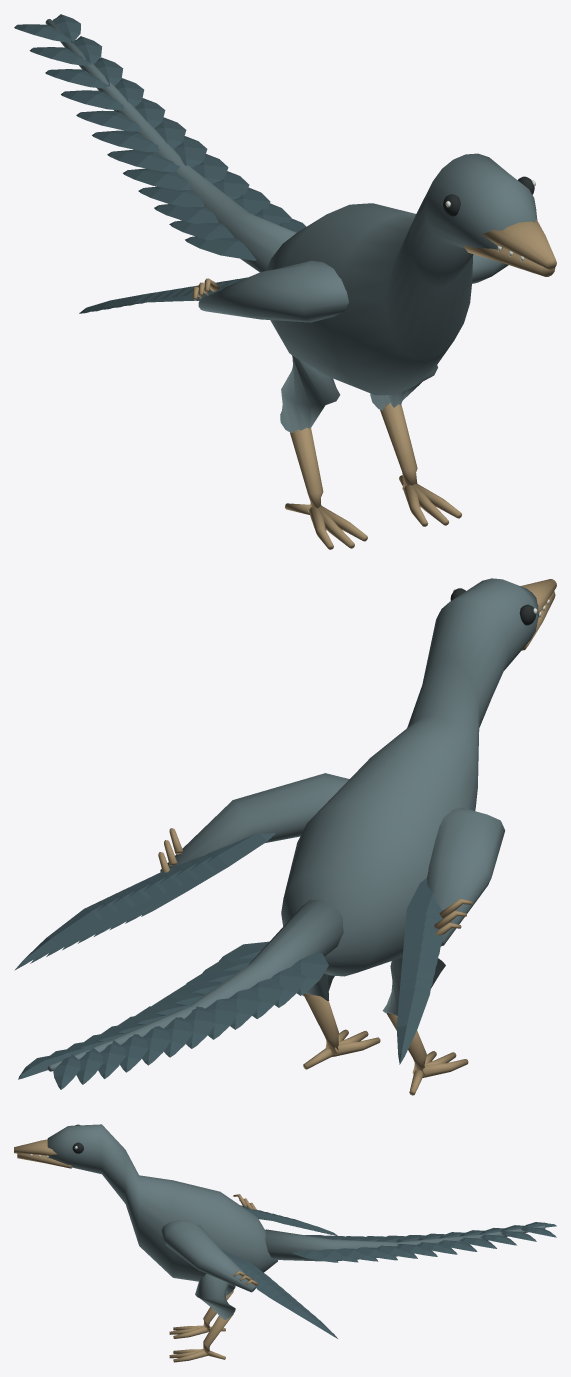
Rendered from archaeopteryx.glb.
3 views of the same model, one above another, from view 1: azimuth 30°, elevation 25°; view 2: azimuth 150°, elevation 25°; view 3: azimuth 270°, elevation 25° (orthographic). The views are drawn at different scales.
Visible parts, largest first — view 1: body, tail-feathers, wing-coverts, tail-axis, thighs, legs, feet, upper-jaw, flight-feathers, jaw; view 2: body, tail-feathers, wing-coverts, flight-feathers, tail-axis, feet, legs, thighs, wing-claws; view 3: body, tail-feathers, wing-coverts, tail-axis, flight-feathers, thighs, feet, legs, upper-jaw, jaw.
Part boxes in pixels (x1,y1,x2,y2): body: (266, 153, 537, 395); tail-feathers: (14, 14, 306, 260); wing-coverts: (198, 254, 508, 322); tail-axis: (45, 19, 296, 272); thighs: (280, 355, 437, 432); legs: (290, 402, 417, 512); feet: (285, 475, 461, 549); upper-jaw: (481, 219, 556, 269); flight-feathers: (79, 277, 247, 313); jaw: (464, 245, 555, 276); body: (281, 578, 539, 976); tail-feathers: (18, 941, 328, 1089); wing-coverts: (160, 773, 505, 946); flight-feathers: (14, 832, 443, 1064); tail-axis: (47, 899, 343, 1071); feet: (303, 1029, 468, 1095); legs: (303, 993, 426, 1074); thighs: (302, 957, 445, 1015); wing-claws: (158, 828, 472, 935); body: (47, 1124, 277, 1281); tail-feathers: (292, 1222, 556, 1262); wing-coverts: (161, 1220, 255, 1292); tail-axis: (265, 1225, 545, 1261); flight-feathers: (222, 1205, 337, 1338); thighs: (195, 1274, 235, 1319); feet: (169, 1325, 225, 1362); legs: (203, 1290, 233, 1354); upper-jaw: (14, 1139, 56, 1155); jaw: (17, 1153, 71, 1168).
Size of the model in its own units: 0.1795 by 0.1789 by 0.4.
